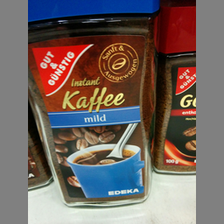coffee: (28, 1, 159, 207), (153, 4, 196, 174)
